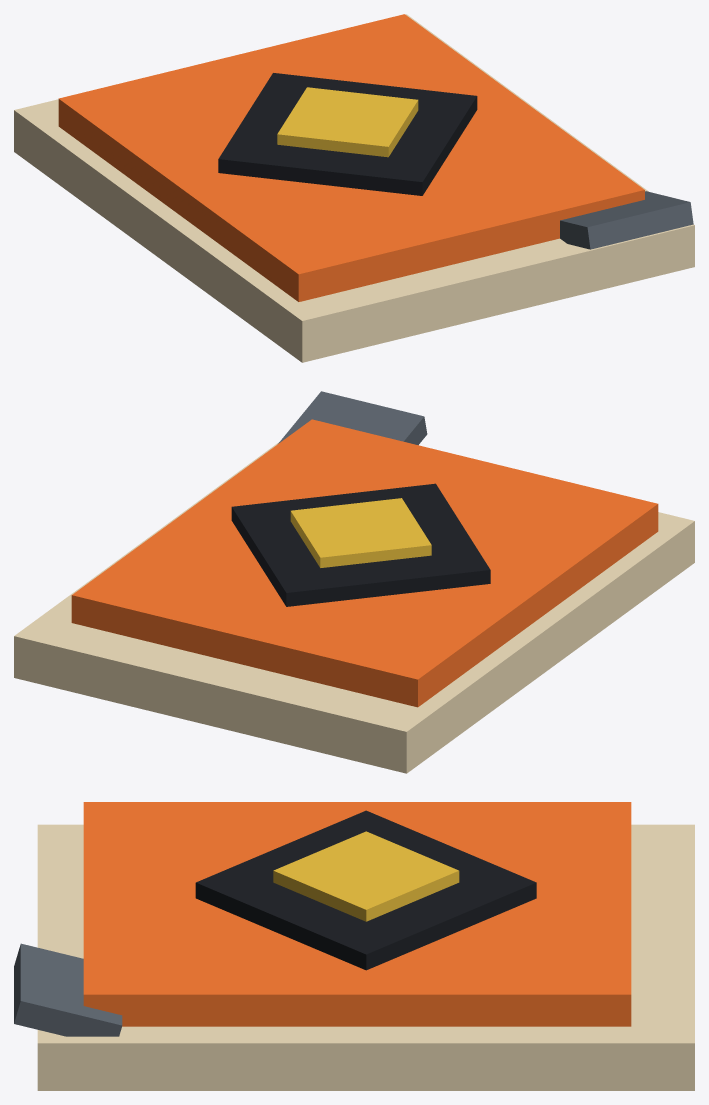
The model's file is suit_patch.glb.
3 views of the same model, one above another, from view 1: azimuth 30°, elevation 25°; view 2: azimuth 150°, elevation 25°; view 3: azimuth 270°, elevation 25° (orthographic). The views are drawn at different scales.
Visible parts, largest first — view 1: Merged; view 2: Merged; view 3: Merged.
Boxes of the visible parts, x1,y1,x2,y2 form: Merged: (14,14,694,362); Merged: (14,391,694,773); Merged: (14,802,694,1090).
Size of the model in its own units: 0.295 by 0.0675 by 0.3884.
